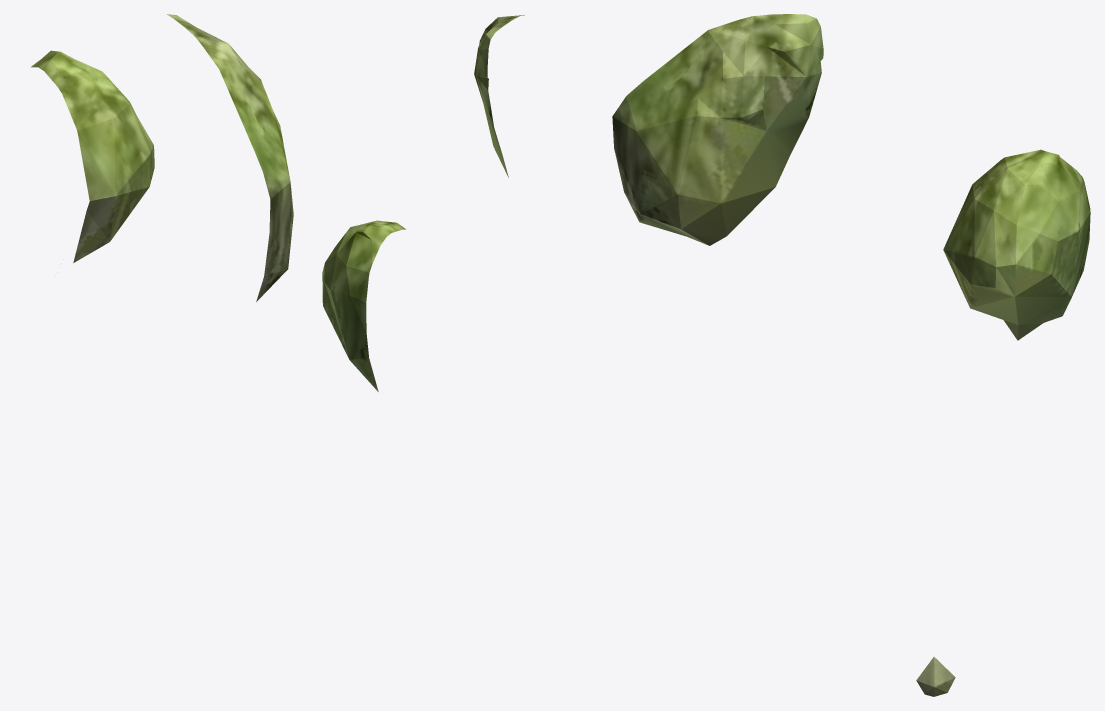
The picture shows the model from 3 angles, left to right: view 1: azimuth 30°, elevation 25°; view 2: azimuth 150°, elevation 25°; view 3: azimuth 270°, elevation 25°; orthographic projection. The views are drawn at different scales.
Bounding box in the file's own units: 0.3631 × 2.77 × 1.76.
Materials: 1 (1 with a texture image).
